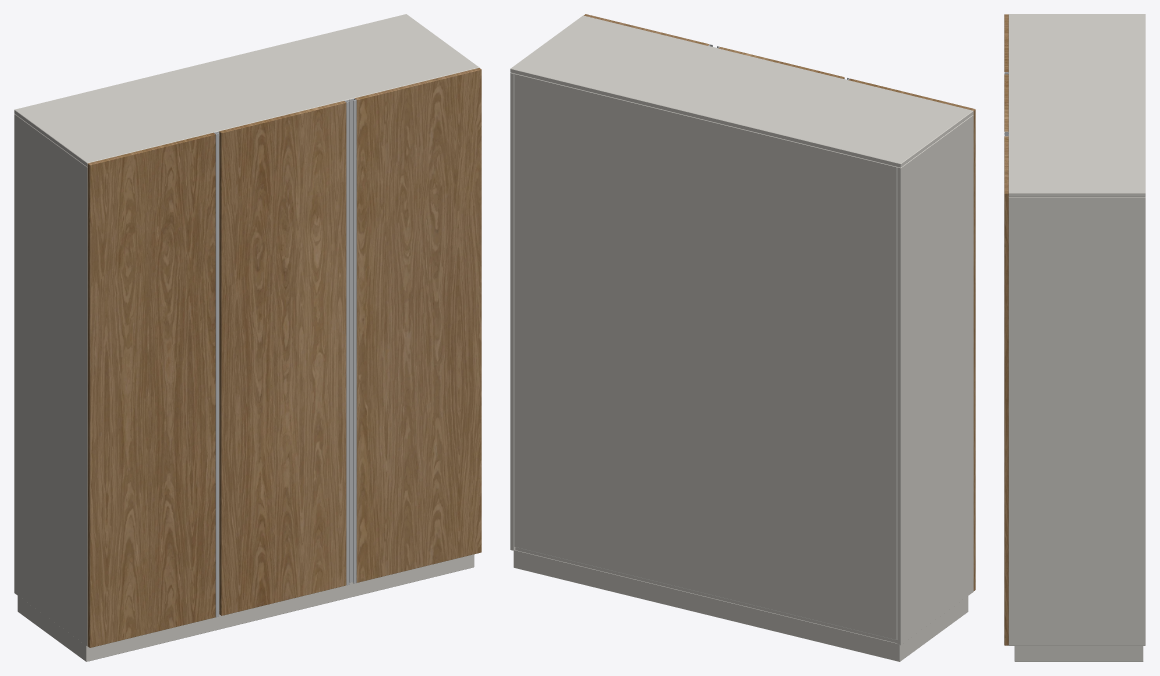
The model's file is armario_roble_3p_180.glb.
3 views of the same model, side by side, from view 1: azimuth 30°, elevation 25°; view 2: azimuth 150°, elevation 25°; view 3: azimuth 270°, elevation 25° (orthographic). The views are drawn at different scales.
Visible parts, largest first — view 1: armario_roble_3p_180; view 2: armario_roble_3p_180; view 3: armario_roble_3p_180.
Boxes of the visible parts, x1,y1,x2,y2 form: armario_roble_3p_180: (14,14,481,661); armario_roble_3p_180: (510,14,975,661); armario_roble_3p_180: (1004,14,1145,661).
Size of the model in its own units: 1.8 by 2.2 by 0.6.
Materials: 3 (1 with a texture image).
